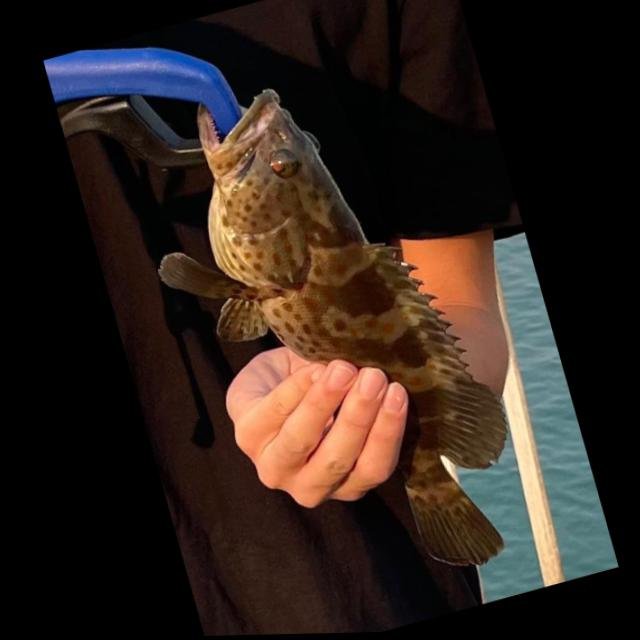Groupers: (112, 40, 542, 627)
